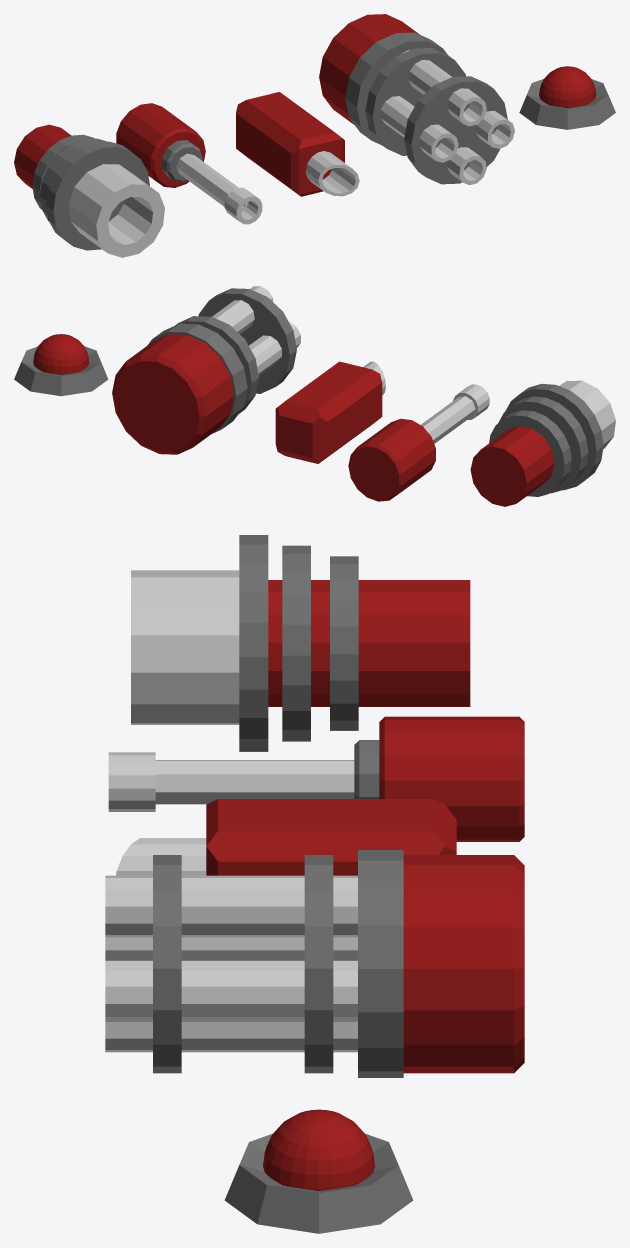
Rendered from weapon.fbx.
3 renders of one model, top to bottom at view 1: azimuth 30°, elevation 25°; view 2: azimuth 150°, elevation 25°; view 3: azimuth 270°, elevation 25°, orthographic. The views are drawn at different scales.
Visible parts, largest first — view 1: Cube, Tube_2, Cylindre_2_3, Cylindre_2_2, Cylindre_1_3, Cylindre_1_2, Cylindre_4, Cylindre_3_2, Cône, Tube_3_2, Tube_2_3, Sphère (+10 smaller); view 2: Cylindre_1_3, Cube, Cylindre_1_2, Cylindre_2, Cylindre_2_3, Cône, Cylindre_1, Cylindre_2_2, Cylindre, Cylindre_3_2, Sphère, Cylindre_4 (+5 smaller); view 3: Cylindre_1_3, Cylindre_2, Tube_2, Cube, Cylindre_1_2, Tube_3_2, Tube_1, Cylindre_3_2, Cône, Tube_3, Sphère, Cylindre_4 (+9 smaller).
Part boxes in pixels (x1,y1,x2,y2): Cube: [236, 92, 344, 196]; Tube_2: [68, 164, 164, 257]; Cylindre_2_3: [404, 76, 507, 184]; Cylindre_2_2: [46, 141, 149, 250]; Cylindre_1_3: [319, 14, 419, 124]; Cylindre_1_2: [116, 103, 205, 187]; Cylindre_4: [365, 48, 465, 155]; Cylindre_3_2: [345, 32, 447, 145]; Cône: [519, 79, 615, 129]; Tube_3_2: [401, 50, 486, 126]; Tube_2_3: [367, 96, 458, 162]; Sphère: [539, 66, 596, 107]; Cylindre_1_3: [112, 334, 234, 454]; Cube: [275, 361, 382, 463]; Cylindre_1_2: [348, 418, 435, 501]; Cylindre_2: [470, 426, 554, 506]; Cylindre_2_3: [198, 288, 296, 393]; Cône: [14, 346, 108, 396]; Cylindre_1: [489, 410, 571, 496]; Cylindre_2_2: [505, 383, 603, 490]; Cylindre: [498, 396, 588, 493]; Cylindre_3_2: [147, 323, 247, 433]; Sphère: [33, 334, 89, 374]; Cylindre_4: [175, 316, 258, 413]; Cylindre_1_3: [403, 855, 524, 1073]; Cylindre_2: [268, 580, 470, 706]; Tube_2: [131, 570, 239, 724]; Cube: [206, 799, 456, 875]; Cylindre_1_2: [379, 716, 524, 841]; Tube_3_2: [105, 875, 357, 937]; Tube_1: [105, 960, 357, 1021]; Cylindre_3_2: [358, 850, 403, 1077]; Cône: [224, 1133, 413, 1233]; Tube_3: [155, 760, 354, 804]; Sphère: [263, 1109, 374, 1190]; Cylindre_4: [304, 855, 333, 1073].
Size of the model in its own units: 125 by 22.52 by 40.3.
